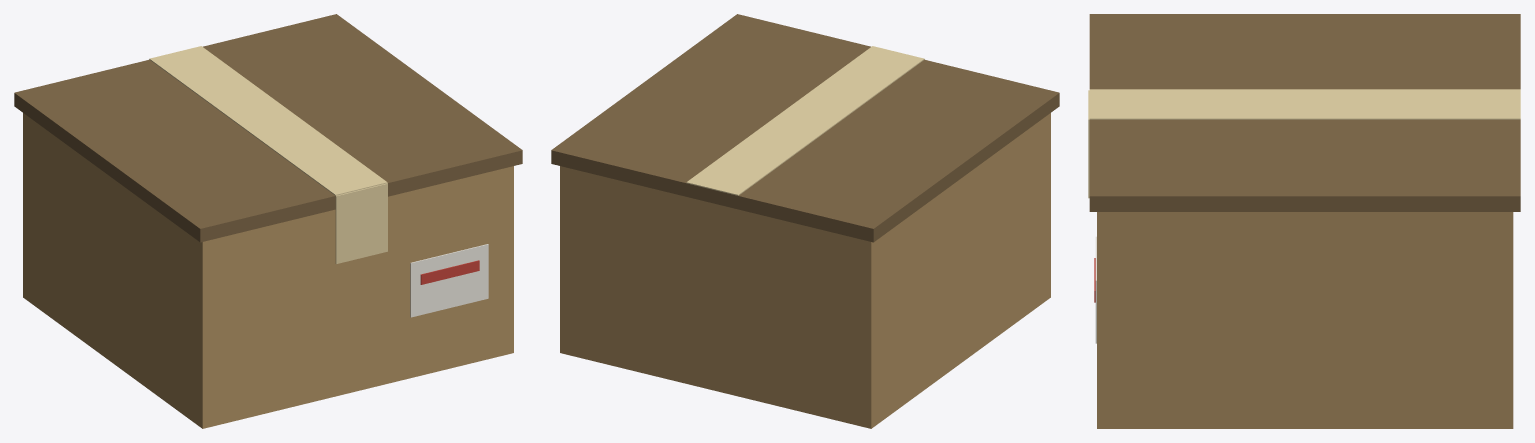
Rendered from moving_box.glb.
3 renders of one model, left to right at view 1: azimuth 30°, elevation 25°; view 2: azimuth 150°, elevation 25°; view 3: azimuth 270°, elevation 25°, orthographic. The views are drawn at different scales.
Visible parts, largest first — view 1: moving_box_Body; view 2: moving_box_Body; view 3: moving_box_Body.
Boxes of the visible parts, x1,y1,x2,y2 form: moving_box_Body: (14,14,522,428); moving_box_Body: (551,14,1059,428); moving_box_Body: (1088,14,1520,428).
Size of the model in its own units: 0.994 by 0.603 by 0.997.
